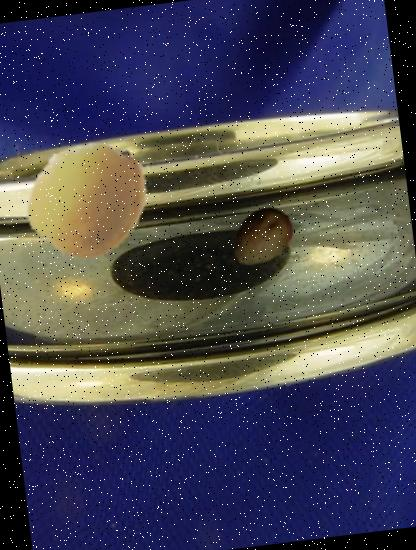Papaya: (224, 199, 300, 275)
Peach: (18, 130, 157, 269)
